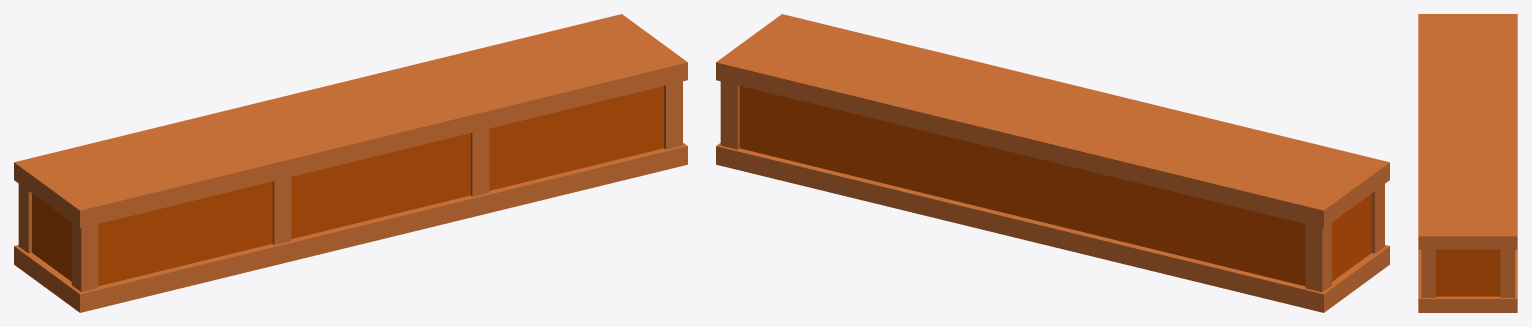
File: Cafe Front Desk LV1.fbx
The picture shows the model from 3 angles, left to right: view 1: azimuth 30°, elevation 25°; view 2: azimuth 150°, elevation 25°; view 3: azimuth 270°, elevation 25°; orthographic projection. The views are drawn at different scales.
Visible parts, largest first — view 1: Cafe_Front_Desk_lv1; view 2: Cafe_Front_Desk_lv1; view 3: Cafe_Front_Desk_lv1.
Boxes of the visible parts, box(x1,y1,x2,y2) form: Cafe_Front_Desk_lv1: box(14, 14, 687, 312); Cafe_Front_Desk_lv1: box(716, 14, 1389, 312); Cafe_Front_Desk_lv1: box(1418, 14, 1517, 312).
Bounding box in the file's own units: 818 × 132 × 154.
